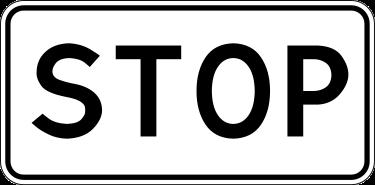Stop: (31, 26, 351, 150)
